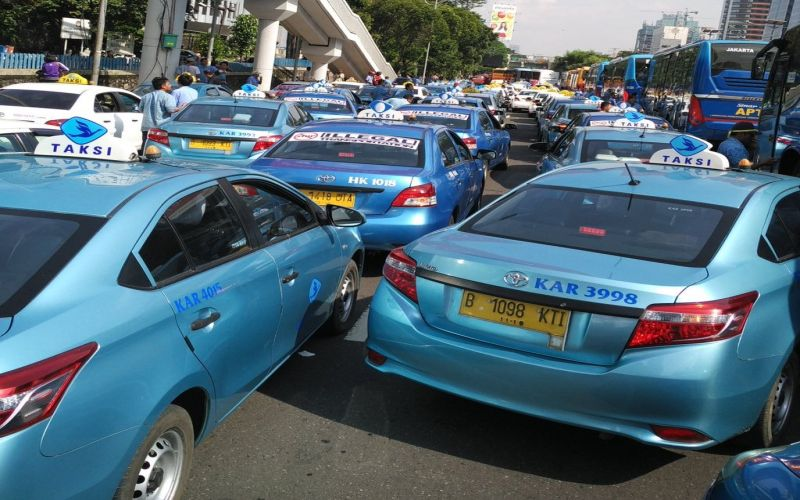plate: (461, 288, 571, 339)
